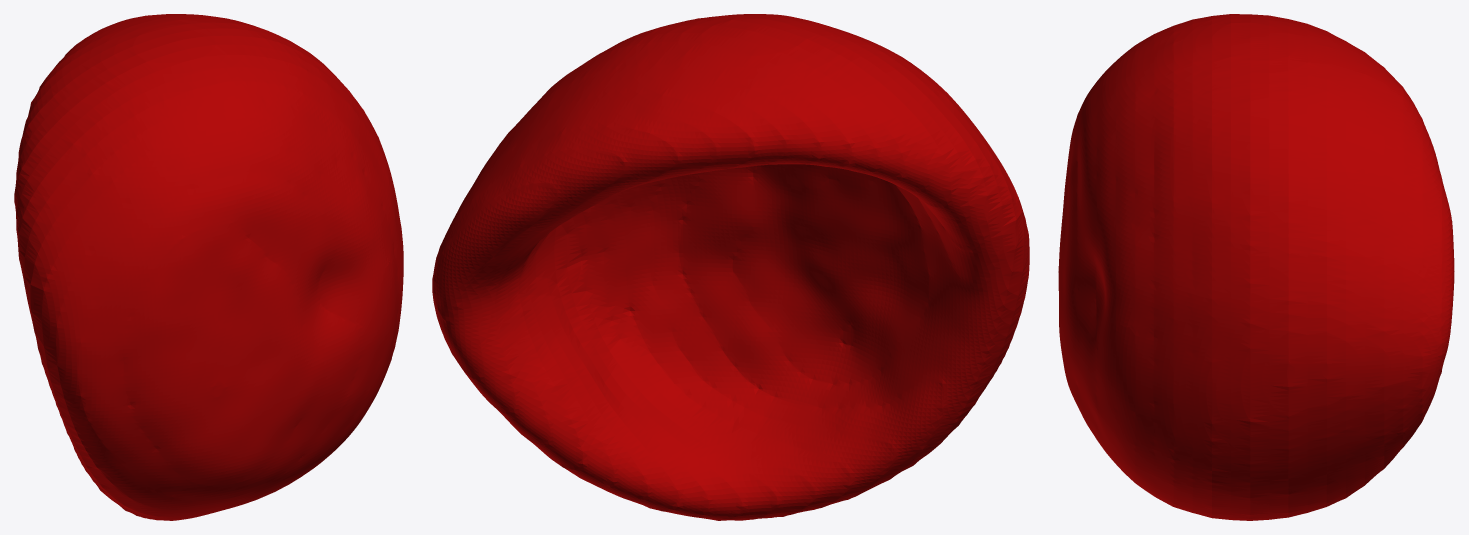
File: 3DPX-021600.glb
3 renders of one model, left to right at view 1: azimuth 30°, elevation 25°; view 2: azimuth 150°, elevation 25°; view 3: azimuth 270°, elevation 25°, orthographic. The views are drawn at different scales.
Parts seen in each view (by area): view 1: polytrichum_commune-pymesh; view 2: polytrichum_commune-pymesh; view 3: polytrichum_commune-pymesh.
Boxes of the visible parts, x1,y1,x2,y2 form: polytrichum_commune-pymesh: (14,14,403,520); polytrichum_commune-pymesh: (432,14,1029,520); polytrichum_commune-pymesh: (1058,14,1454,520).
Size of the model in its own units: 11.14 by 11.57 by 9.11.
